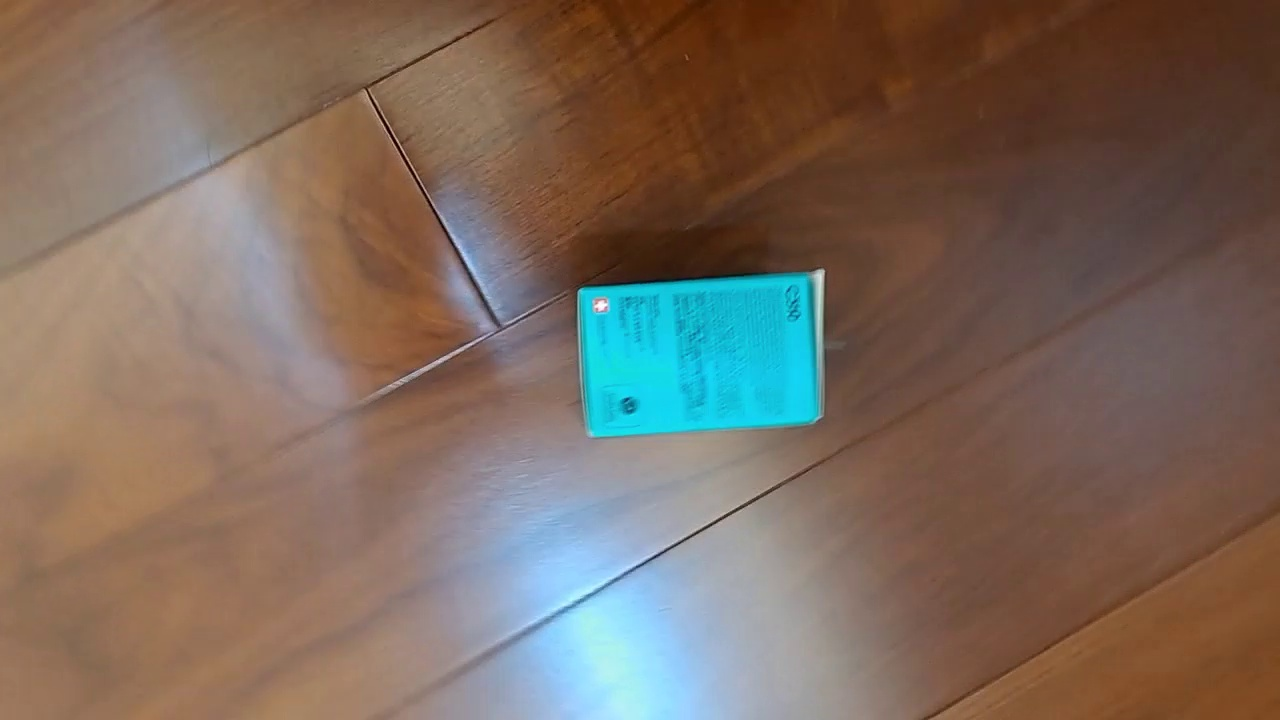webcam: (575, 266, 825, 439)
